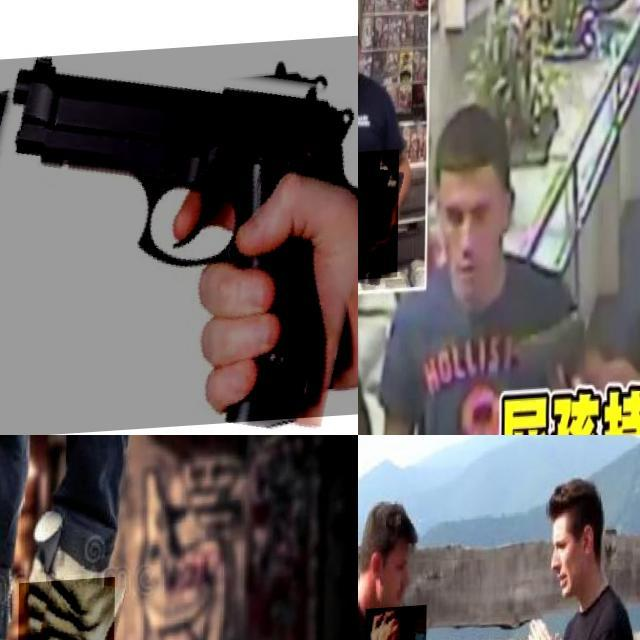-: (17, 582, 116, 640), (365, 609, 427, 640)
gun-knife-thesis - v11 Yolov5 augmented: (0, 40, 358, 435), (358, 151, 438, 287)
